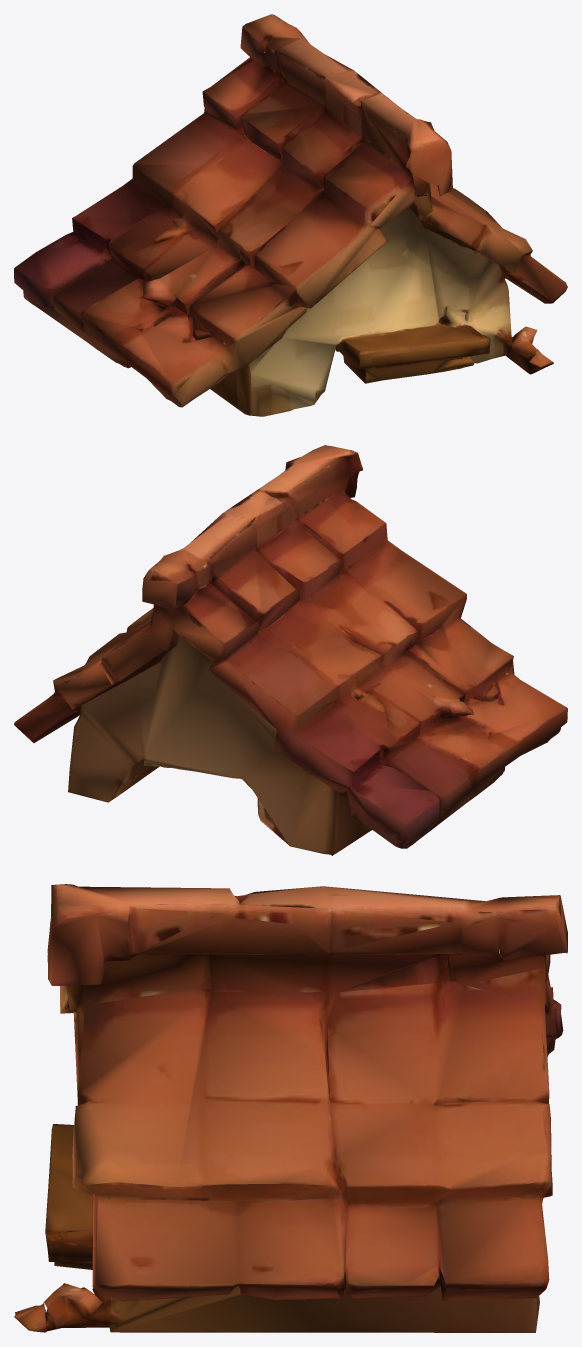
Rendered from deb_roof.glb.
3 views of the same model, one above another, from view 1: azimuth 30°, elevation 25°; view 2: azimuth 150°, elevation 25°; view 3: azimuth 270°, elevation 25° (orthographic). The views are drawn at different scales.
Parts seen in each view (by area): view 1: tripo_node_d8963a1c; view 2: tripo_node_d8963a1c; view 3: tripo_node_d8963a1c.
Boxes of the visible parts, bbox=[...] form: tripo_node_d8963a1c: bbox=[14, 14, 567, 416]; tripo_node_d8963a1c: bbox=[14, 445, 567, 855]; tripo_node_d8963a1c: bbox=[14, 884, 567, 1332].
Size of the model in its own units: 99.42 by 59.23 by 81.35.
1 material, 1 textured.
